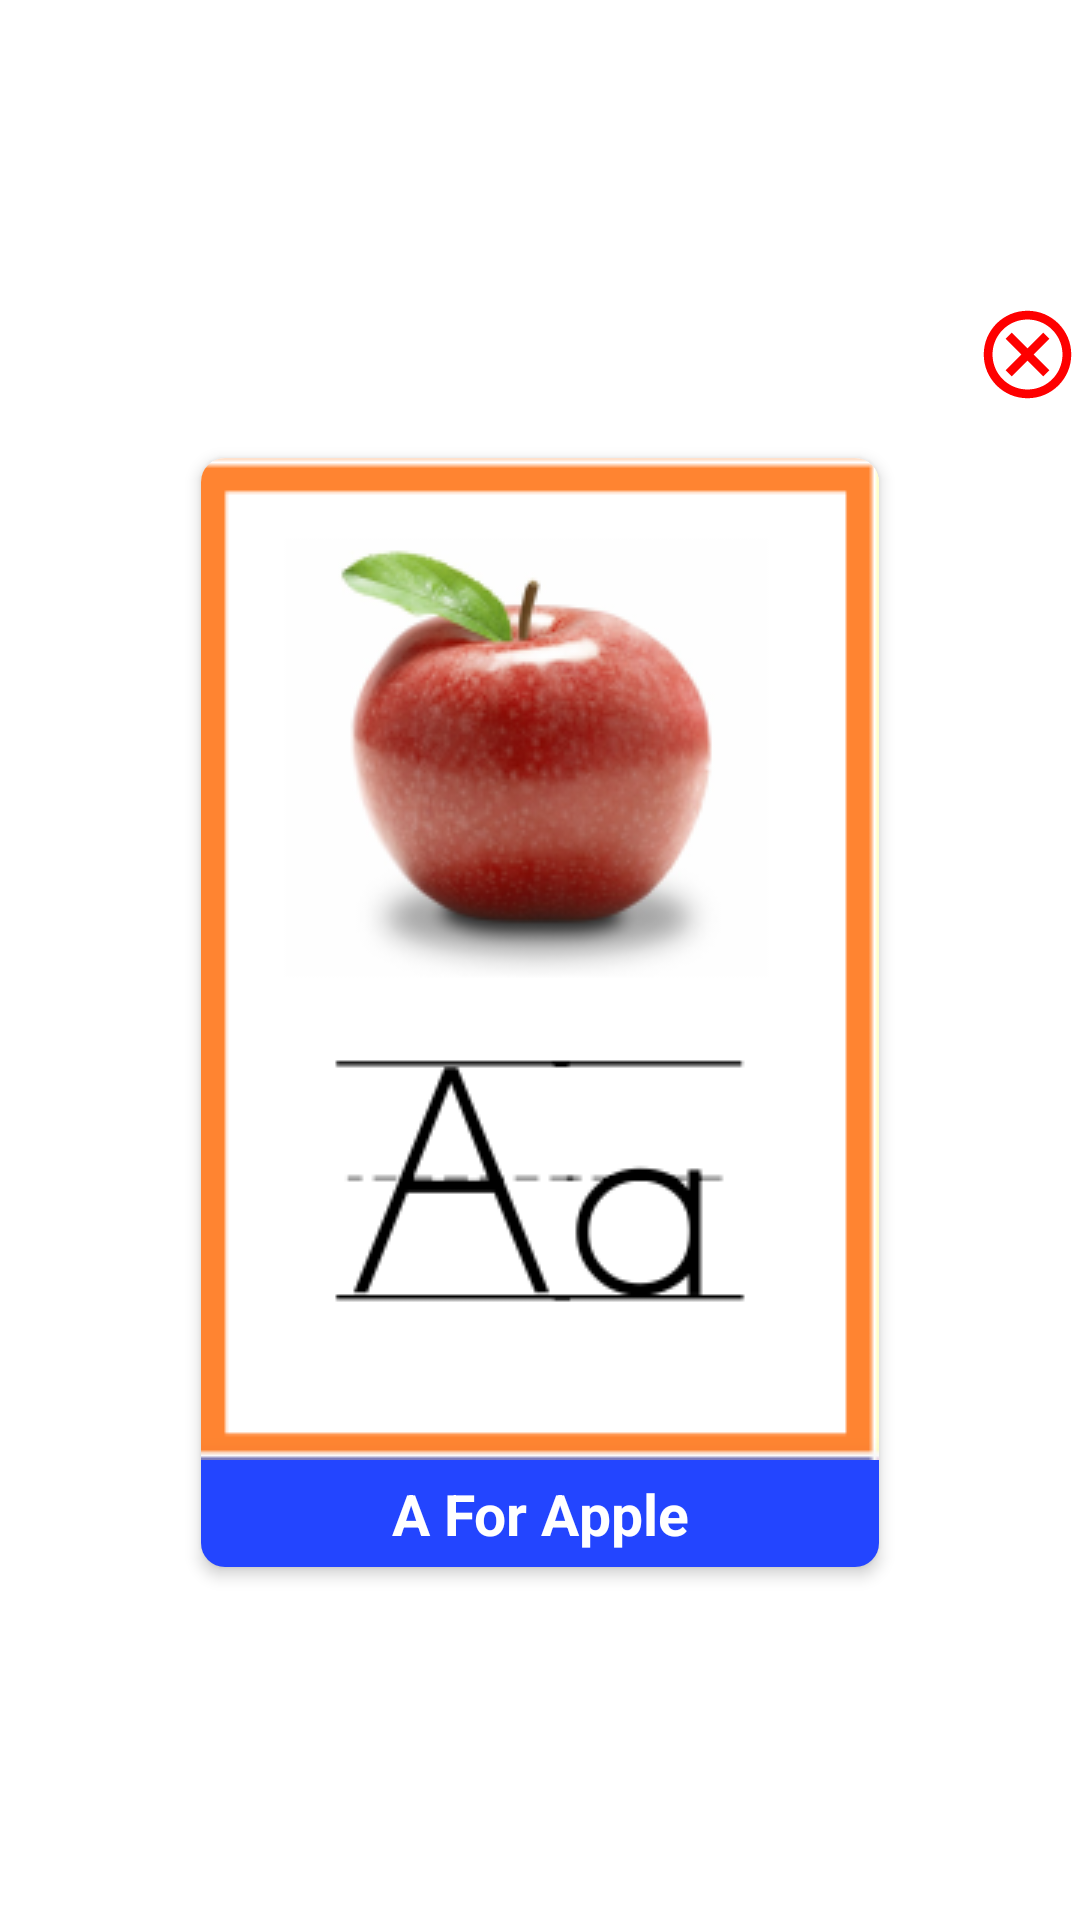

Where icons sit on this 1080px x 1920px app screen, as {"left": x1, "top": y1, "right": x2, "bottom": y2}:
cancel: {"left": 983, "top": 310, "right": 1072, "bottom": 399}
